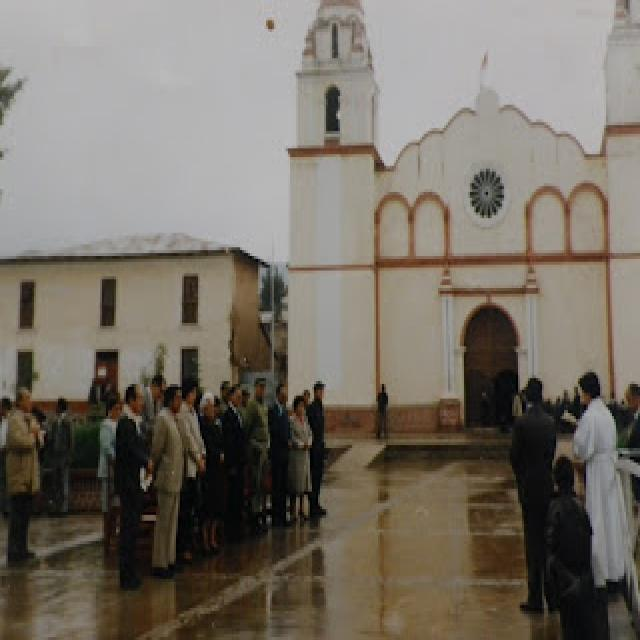CAMPANARIO: (283, 63, 394, 149)
PORTADA CENTRAL: (444, 281, 544, 444)
TORRES: (274, 0, 390, 448)
colonial-architecture-: (260, 0, 640, 445)
